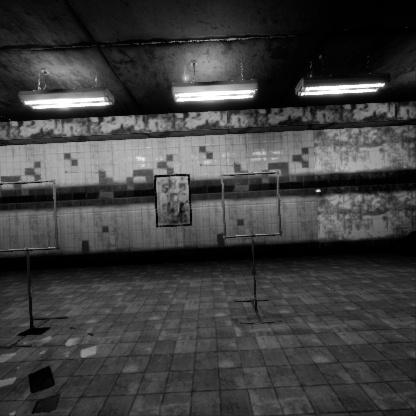gate: (221, 177, 286, 245)
